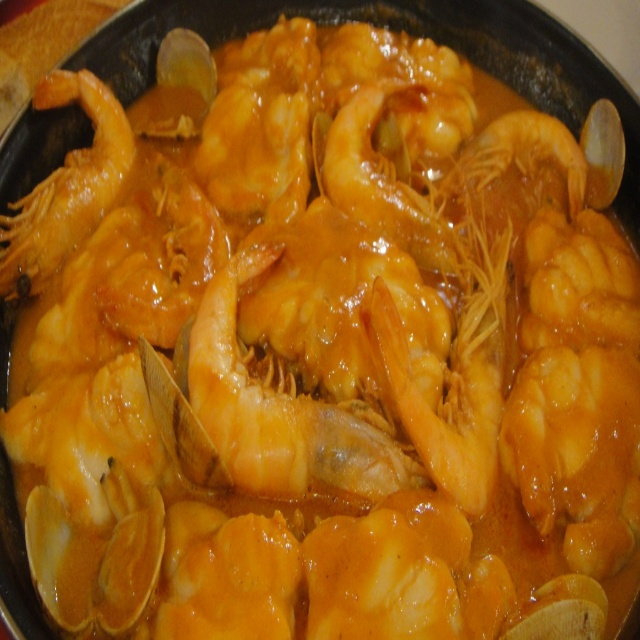Shrimp: (0, 15, 640, 640)
